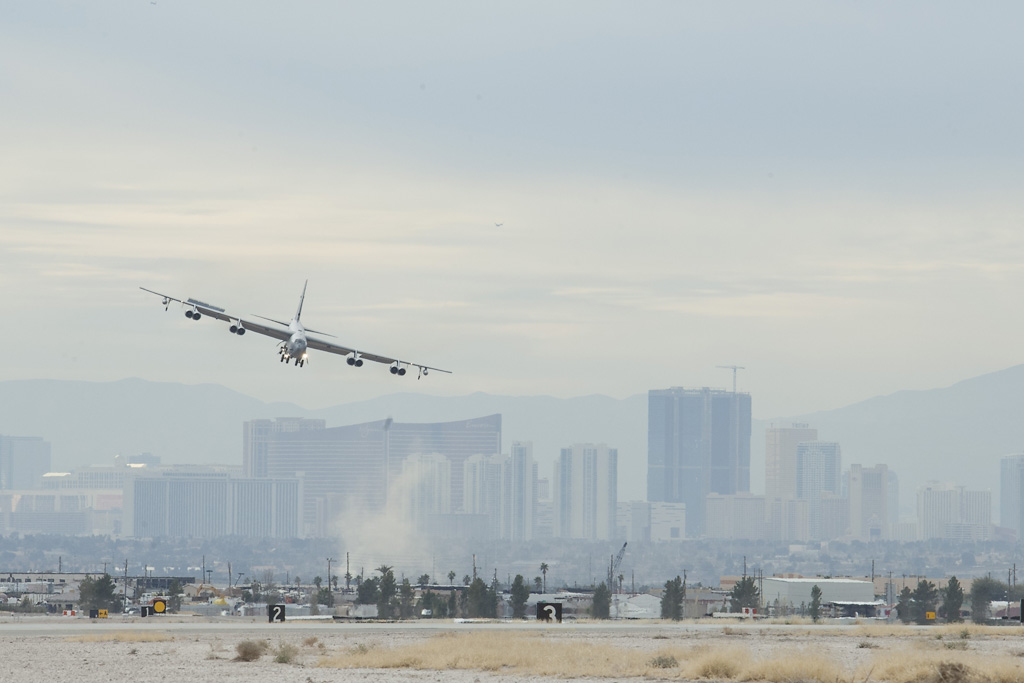B52: (139, 277, 452, 381)
